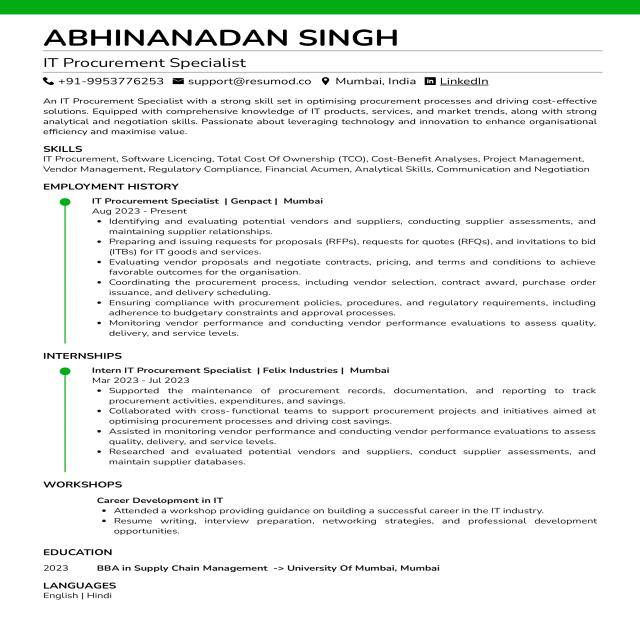contact: (40, 74, 506, 93)
education: (42, 547, 450, 579)
experience: (41, 181, 603, 350), (42, 348, 616, 474)
header: (34, 20, 402, 70)
languages: (41, 580, 142, 612)
projects: (41, 479, 603, 539)
skills: (40, 144, 605, 181)
summary: (42, 93, 612, 142)
